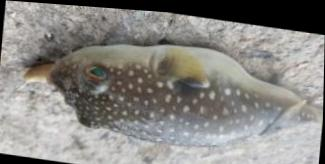fish: (50, 43, 323, 143)
